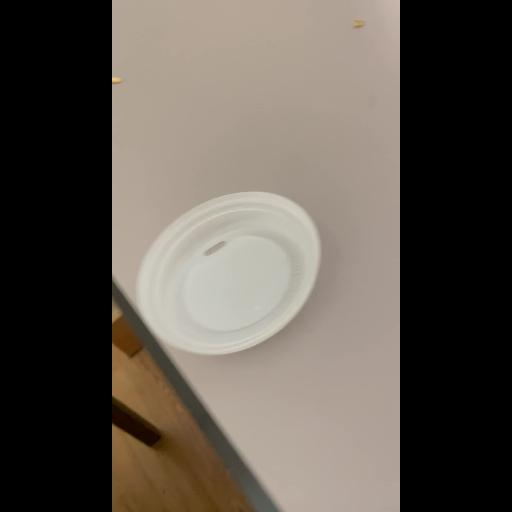lp_cup_lids: (134, 191, 322, 355)
